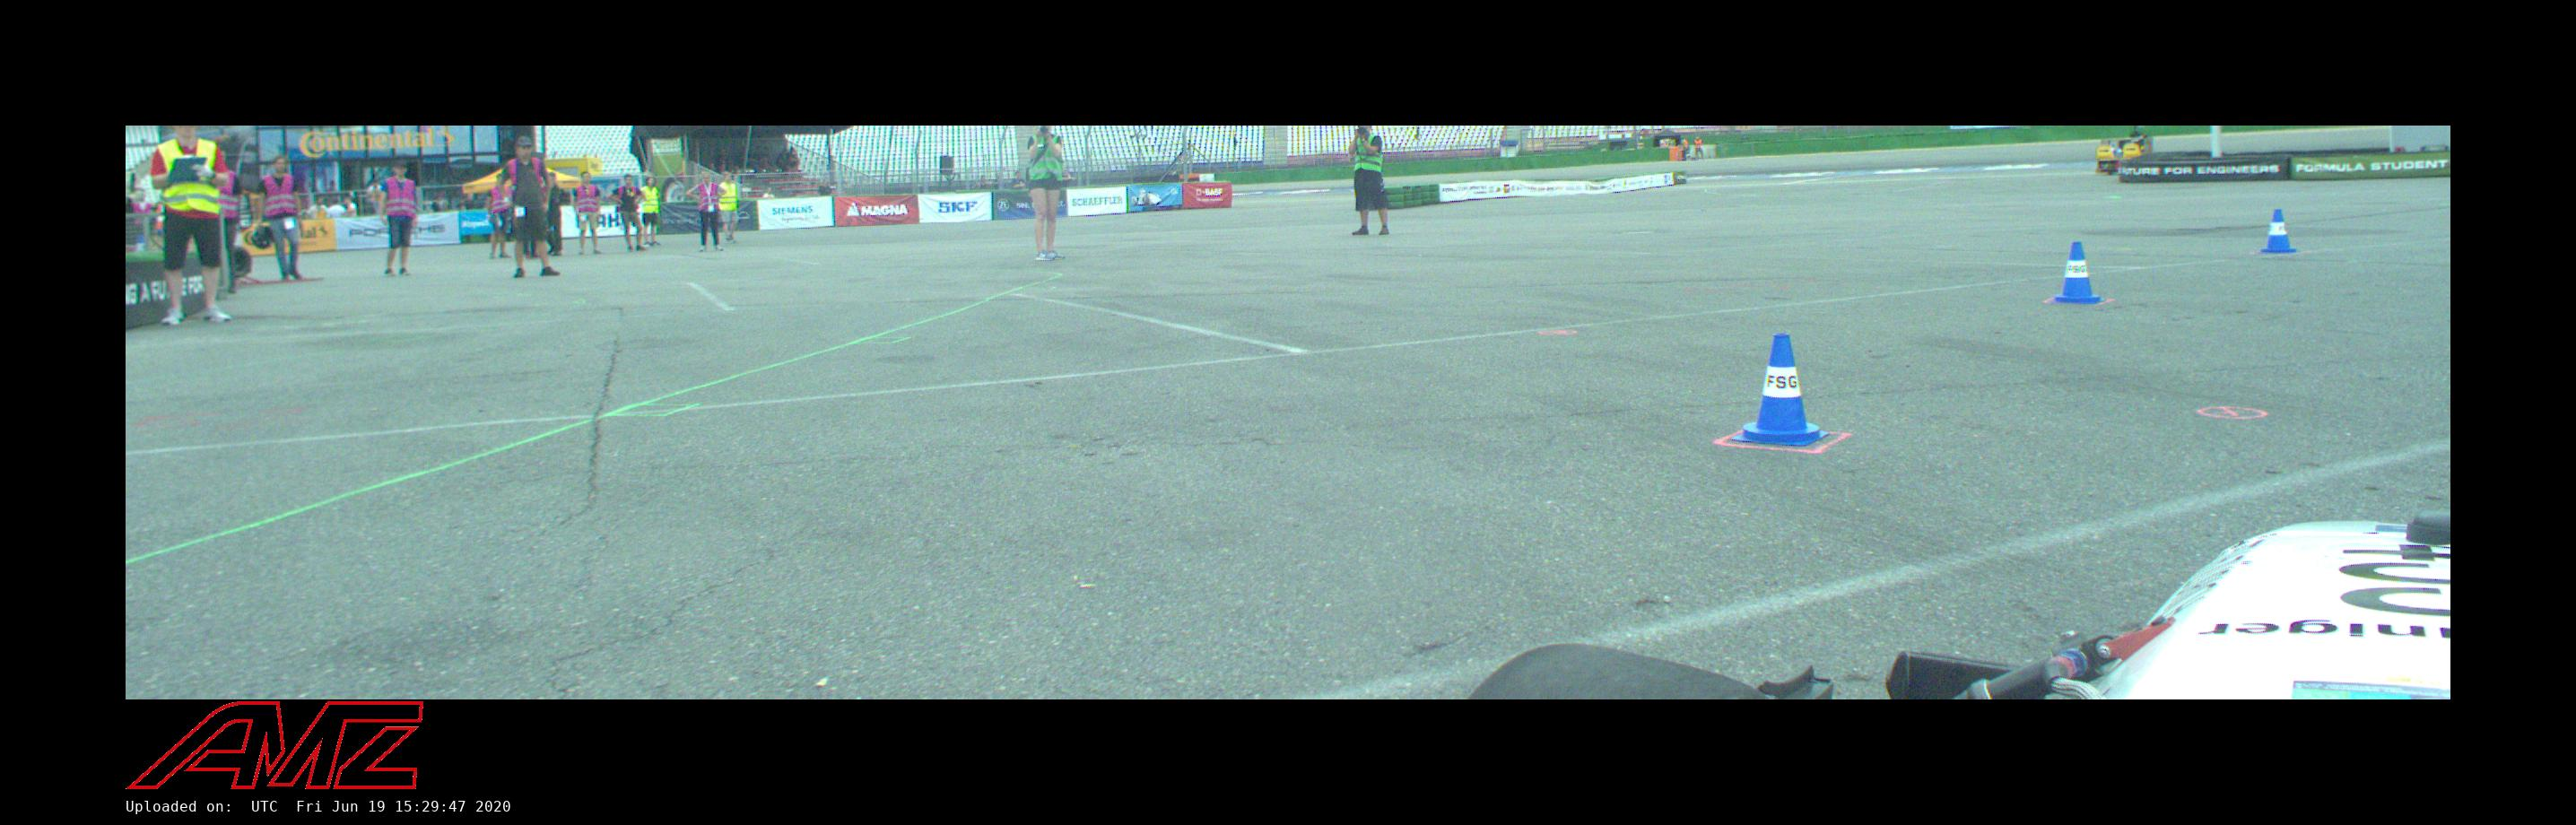blue_cone: (1730, 333, 1829, 446), (2050, 242, 2104, 304), (2261, 209, 2296, 252)
